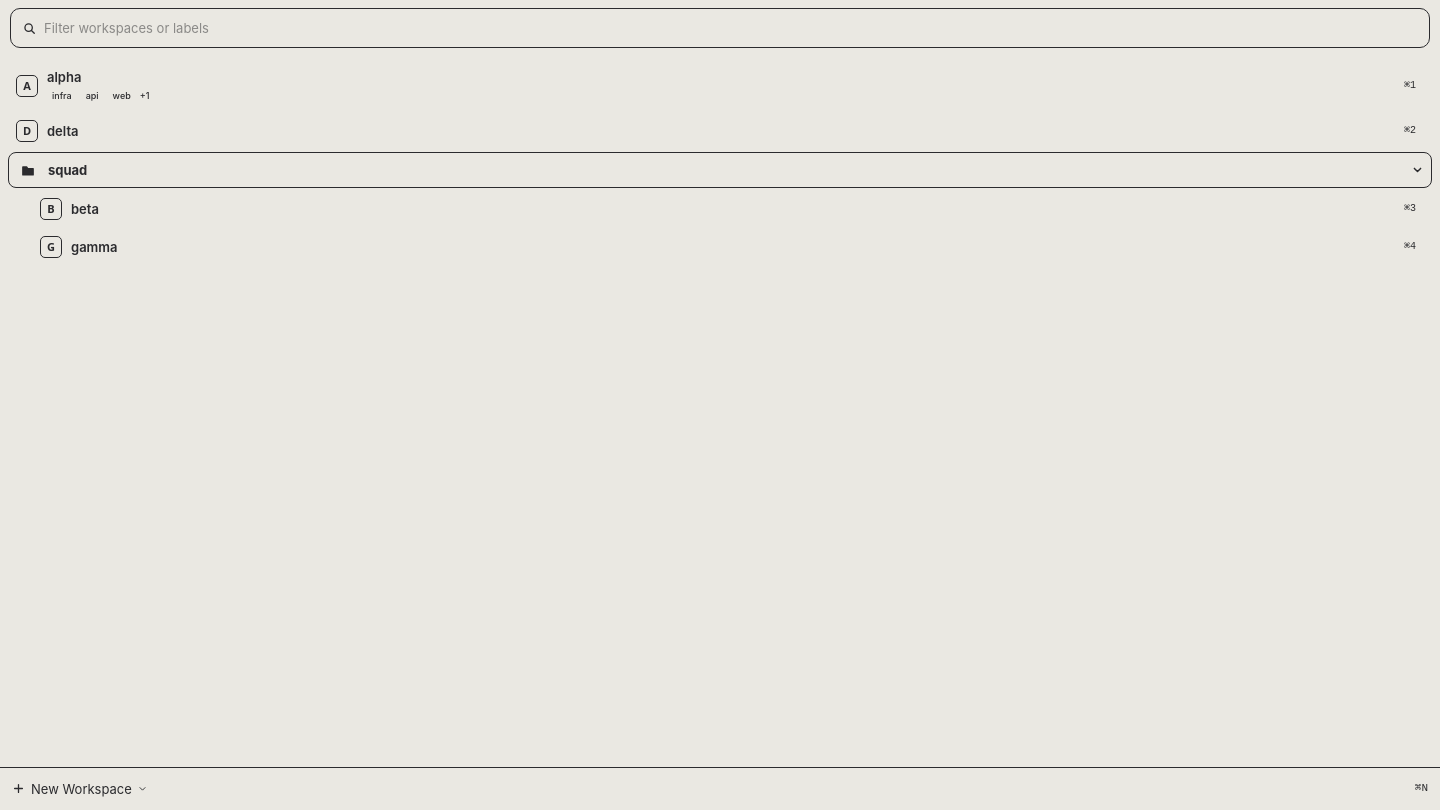
Scenario: selection › cmd-click multi-selects and shows the selection header
Click the option with test id "workspace-row" showing "D delta ⌘2" at (63, 131), box [8, 114, 1424, 148]
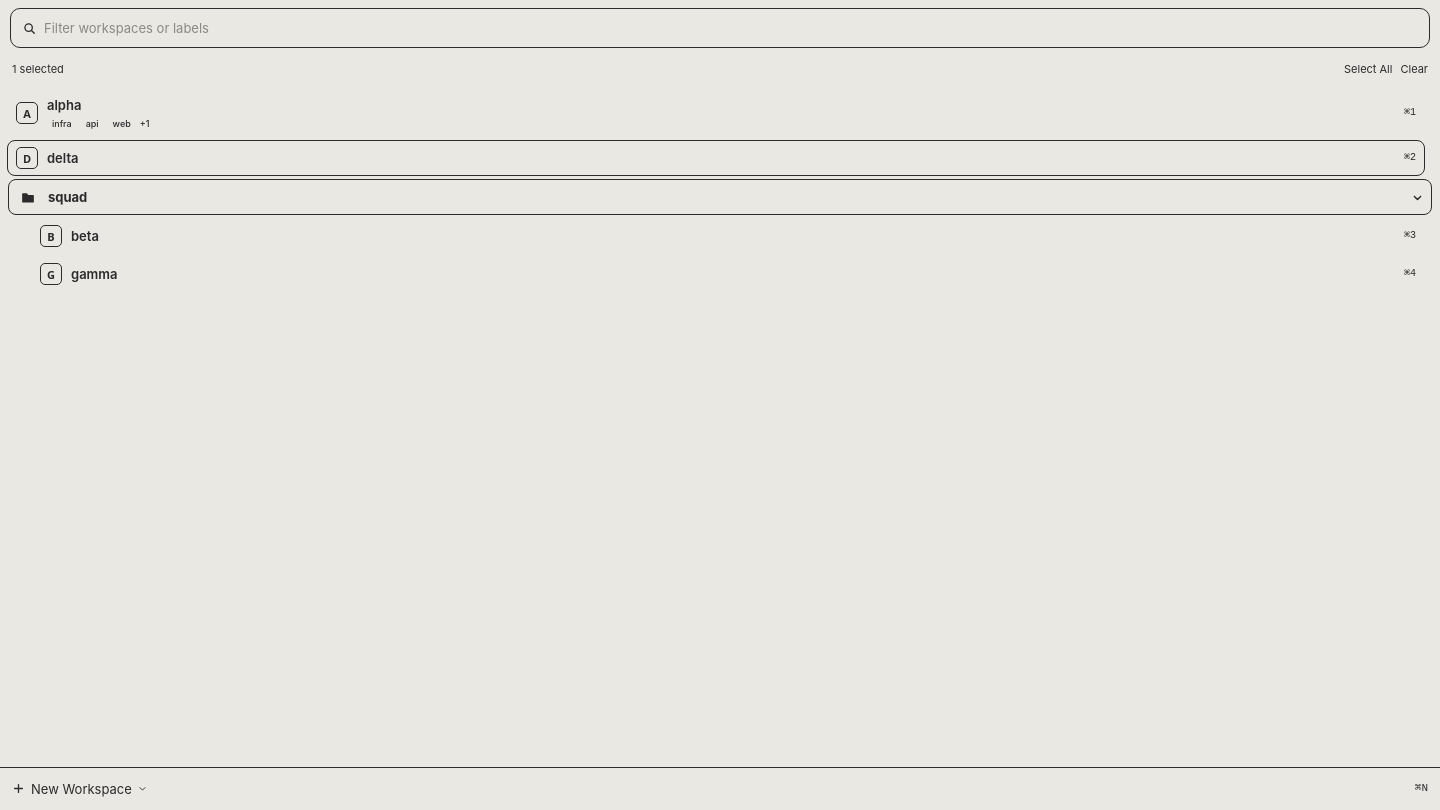
Check: the element with test id "selection-header" shows "1 selected", box [0, 56, 1439, 84]
Click the button "Clear" at (1414, 70), box [1396, 60, 1432, 80]
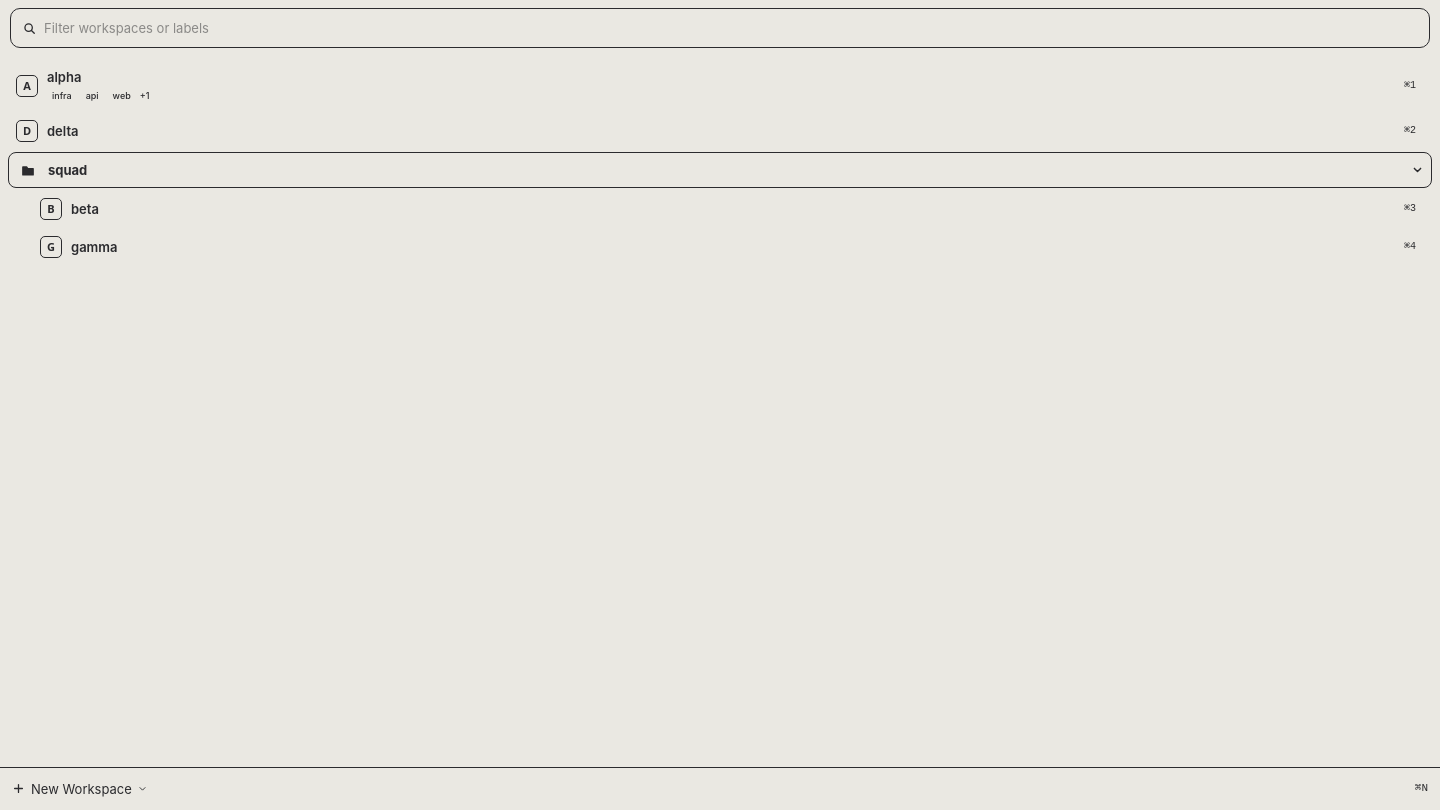
Check: the element with test id "selection-header" is gone
